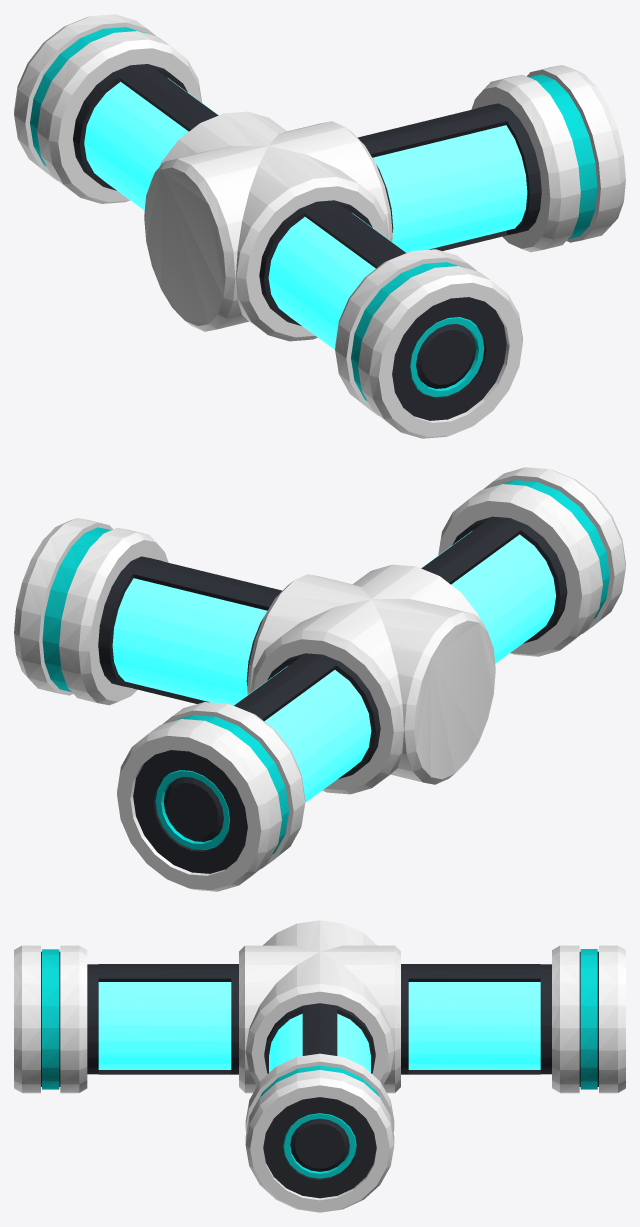
The model's file is SM_Cable_Large_T.fbx.
3 renders of one model, top to bottom at view 1: azimuth 30°, elevation 25°; view 2: azimuth 150°, elevation 25°; view 3: azimuth 270°, elevation 25°, orthographic. The views are drawn at different scales.
Visible parts, largest first — view 1: SM_Cable_Large_T; view 2: SM_Cable_Large_T; view 3: SM_Cable_Large_T.
Boxes of the visible parts, x1,y1,x2,y2 form: SM_Cable_Large_T: (14,14,625,438); SM_Cable_Large_T: (14,467,625,891); SM_Cable_Large_T: (14,920,625,1212).
Size of the model in its own units: 63.23 by 24.32 by 100.
